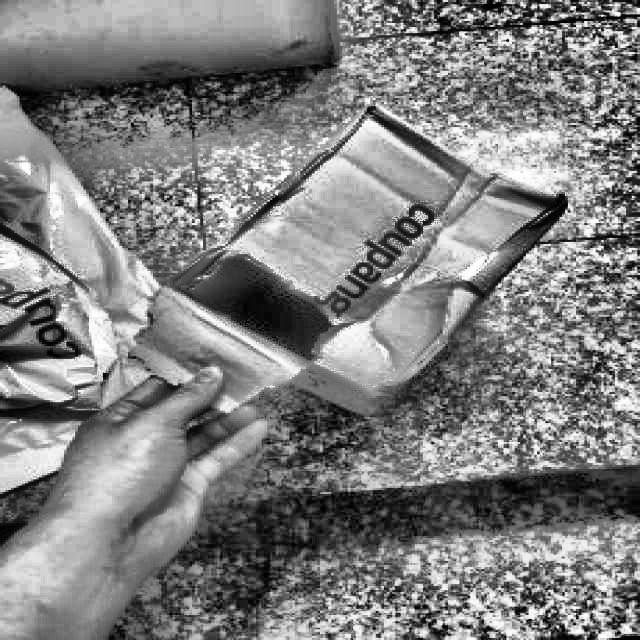box: (135, 102, 550, 444)
hole: (178, 254, 338, 362)
